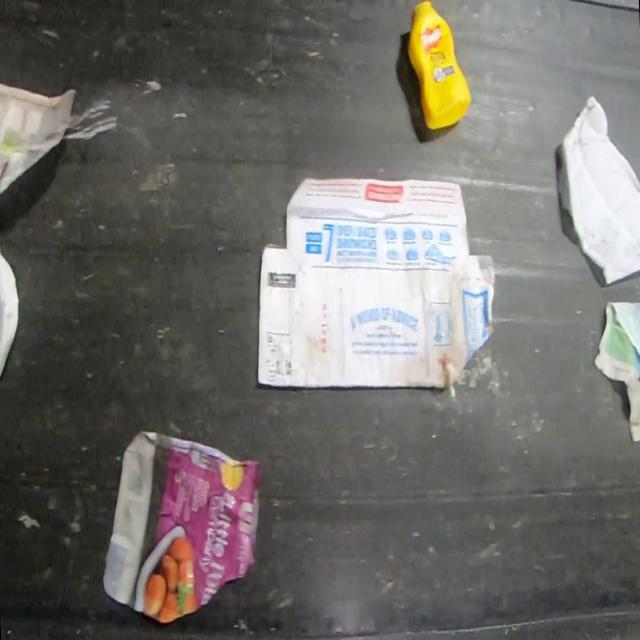cardboard: (256, 177, 494, 387)
rigid_plastic: (406, 2, 474, 132), (0, 251, 21, 381)
soft_plastic: (102, 428, 260, 627)
